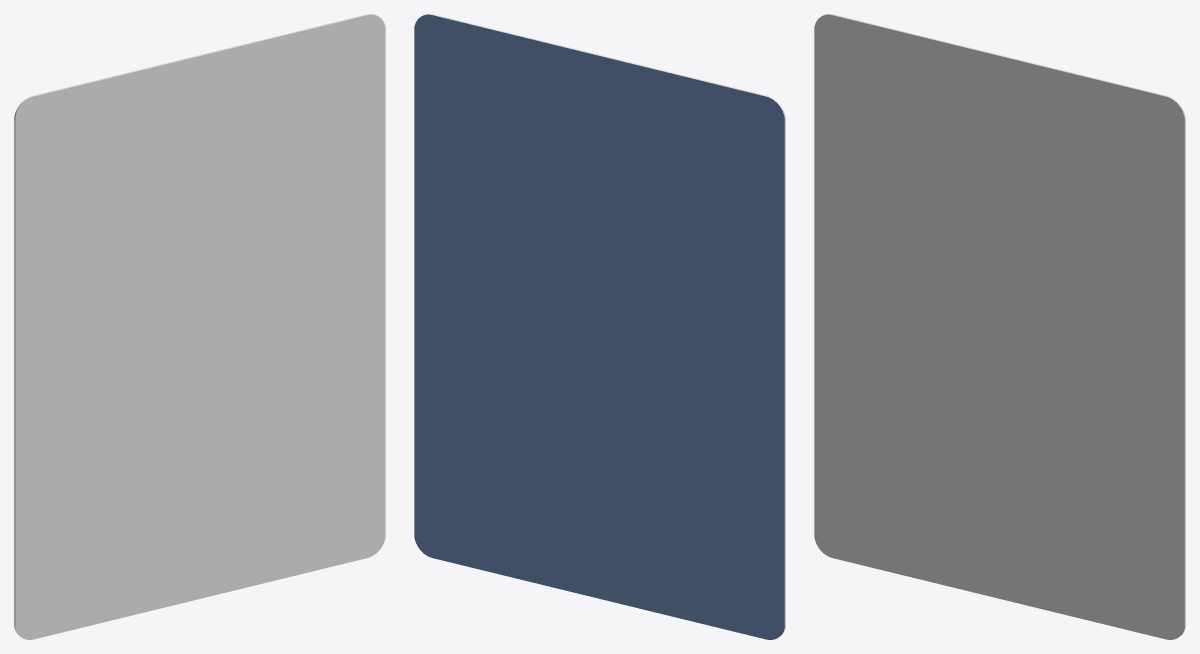
The model's file is PokemonTCG_Card.glb.
3 views of the same model, side by side, from view 1: azimuth 30°, elevation 25°; view 2: azimuth 150°, elevation 25°; view 3: azimuth 330°, elevation 25° (orthographic).
Parts seen in each view (by area): view 1: PokemonTCG_Card_Main; view 2: PokemonTCG_Card_Main; view 3: PokemonTCG_Card_Main.
Part boxes in pixels (x1=…): PokemonTCG_Card_Main: x1=14, y1=14, x2=385, y2=639; PokemonTCG_Card_Main: x1=414, y1=14, x2=785, y2=639; PokemonTCG_Card_Main: x1=814, y1=14, x2=1185, y2=639.
Bounding box in the file's own units: 0.0635 × 0.0889 × 0.00031.
